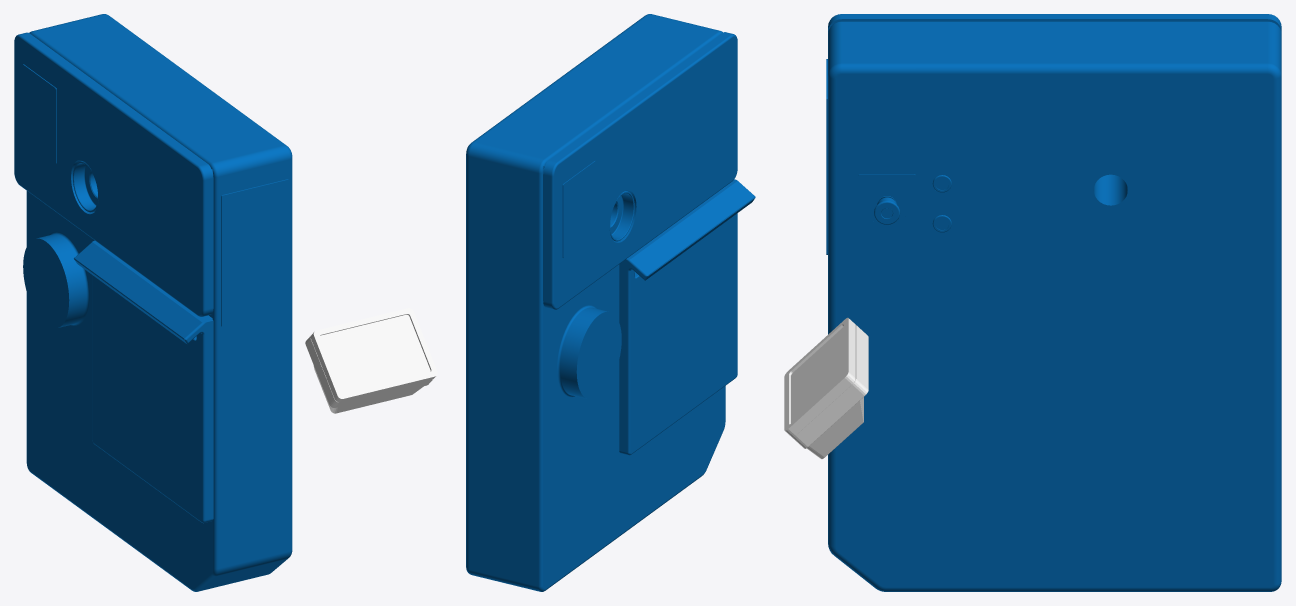
Rendered from Machinery Addition.fbx.
The picture shows the model from 3 angles, left to right: view 1: azimuth 30°, elevation 25°; view 2: azimuth 150°, elevation 25°; view 3: azimuth 270°, elevation 25°; orthographic projection. The views are drawn at different scales.
Visible parts, largest first — view 1: Body1_2, Body3; view 2: Body1_2; view 3: Body1_2, Body3.
Part boxes in pixels (box(x1,y1,x2,y2)): Body1_2: box(14, 14, 292, 591); Body3: box(305, 308, 437, 413); Body1_2: box(466, 14, 755, 591); Body1_2: box(826, 14, 1281, 591); Body3: box(784, 317, 868, 459).
Size of the model in its own units: 591 by 1058 by 903.
